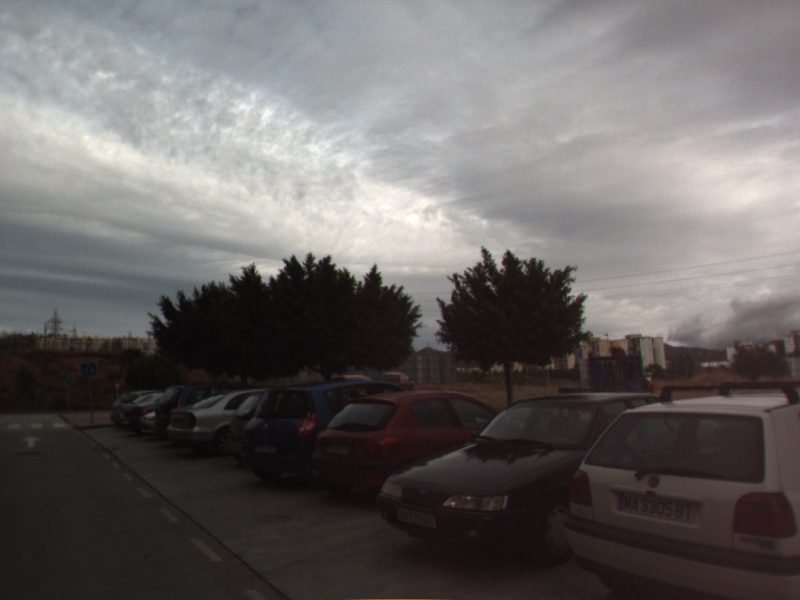STRAIGHT: (19, 434, 43, 450)
